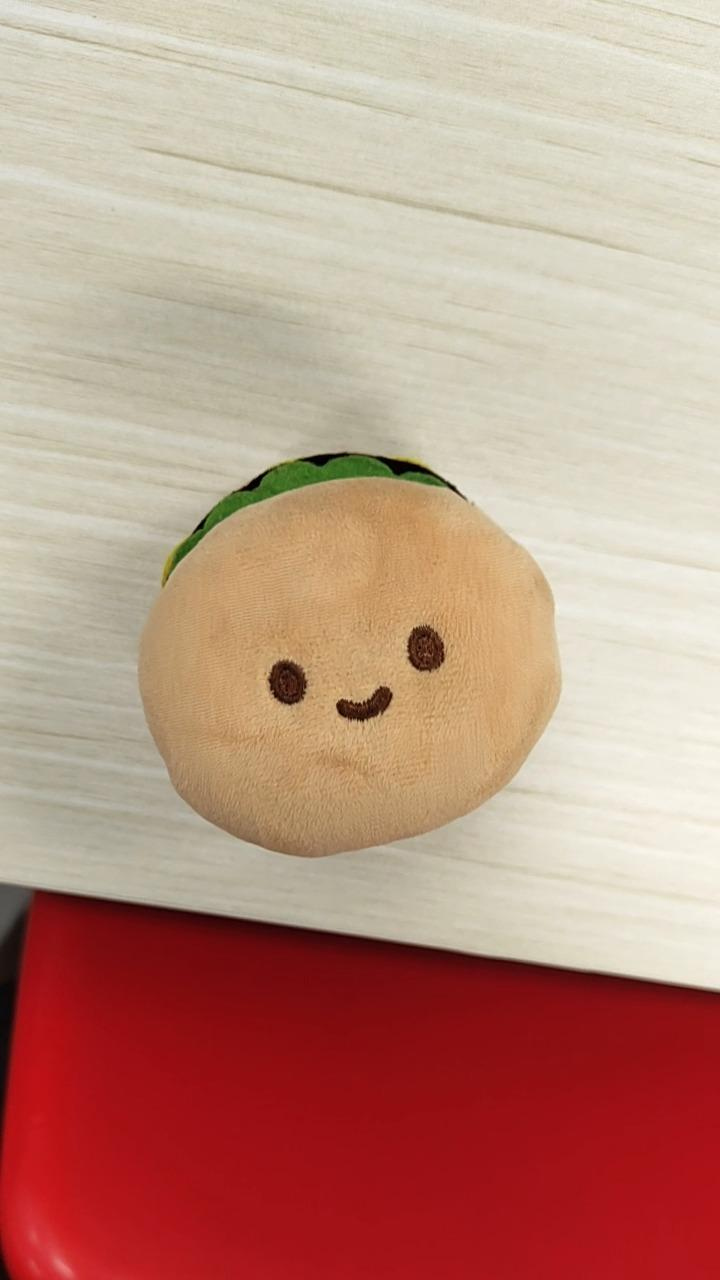hamburger: (136, 449, 563, 859)
